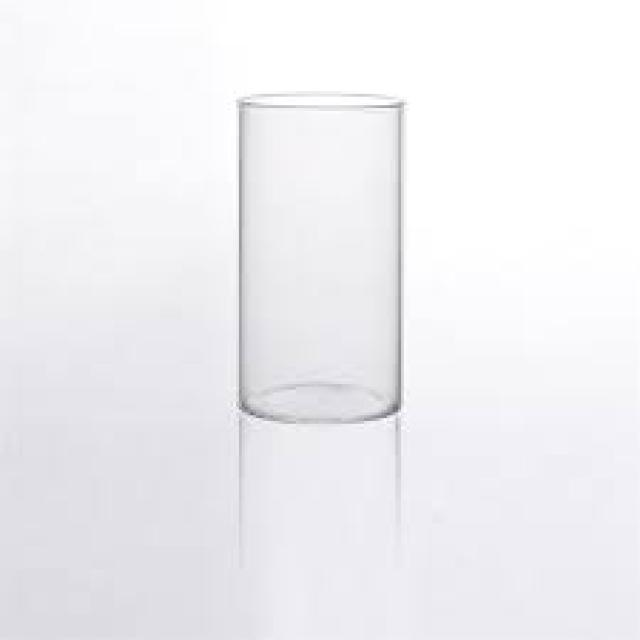glass: (236, 91, 401, 421)
